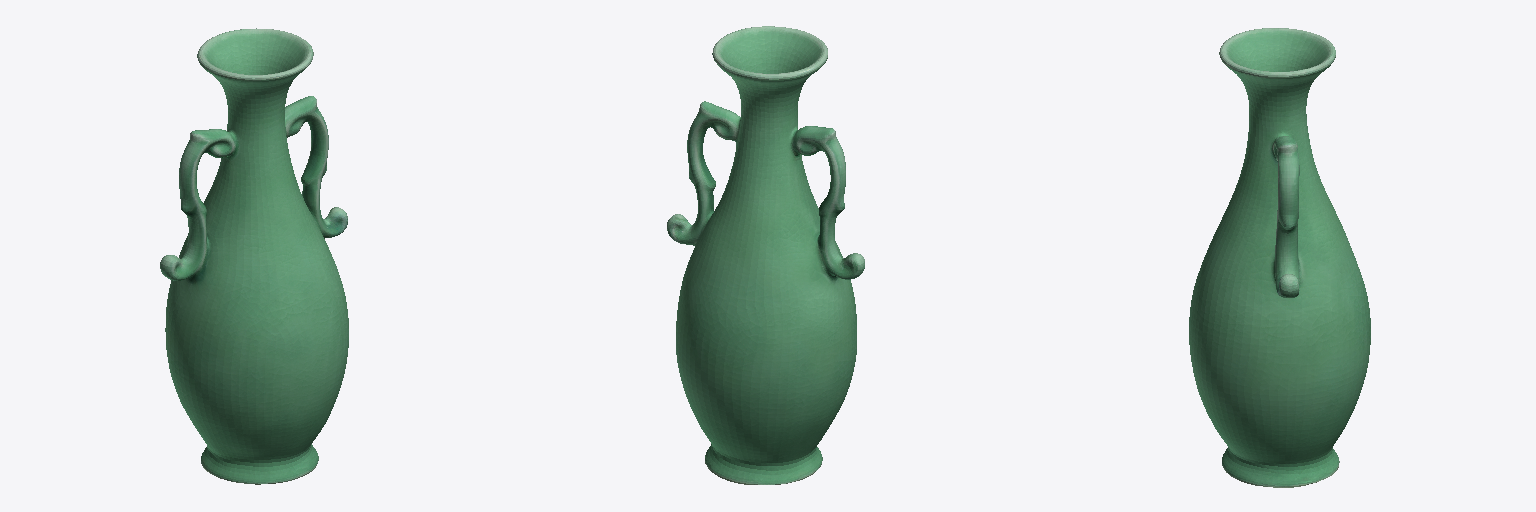
3 views of the same model, side by side, from view 1: azimuth 30°, elevation 25°; view 2: azimuth 150°, elevation 25°; view 3: azimuth 270°, elevation 25° (orthographic).
Visible parts, largest first — view 1: headusOBJexport001; view 2: headusOBJexport001; view 3: headusOBJexport001.
Part boxes in pixels (x1,y1,x2,y2): headusOBJexport001: (160,28,348,484); headusOBJexport001: (667,26,864,484); headusOBJexport001: (1189,28,1370,487).
Bounding box in the file's own units: 225 × 468 × 187.
1 materials, 1 textured.